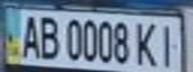0: (78, 16, 100, 63), (96, 17, 115, 64), (63, 15, 81, 62)
8: (112, 18, 133, 66)
A: (15, 11, 42, 60)
B: (36, 12, 60, 61)
I: (154, 19, 184, 70)
K: (133, 18, 160, 68)
